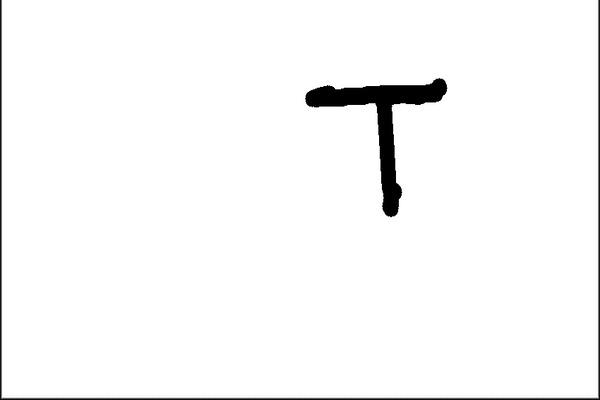T: (302, 76, 457, 220)
